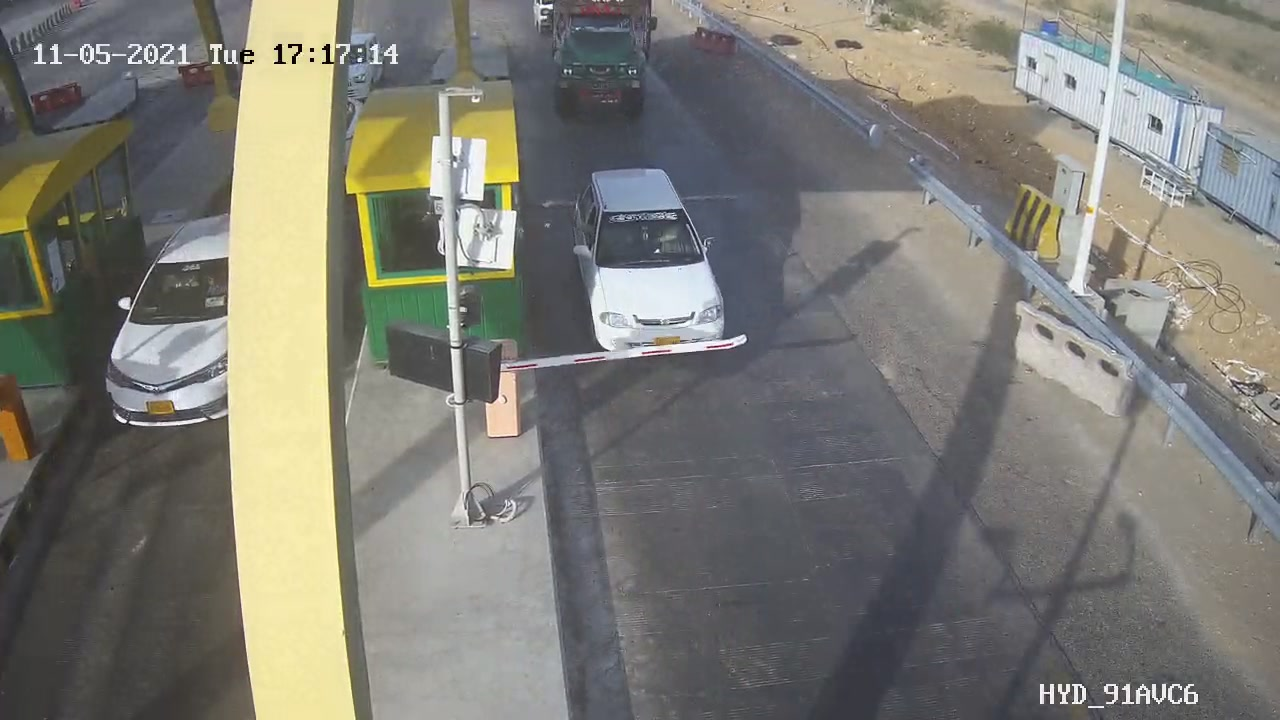F1: (552, 152, 744, 377)
